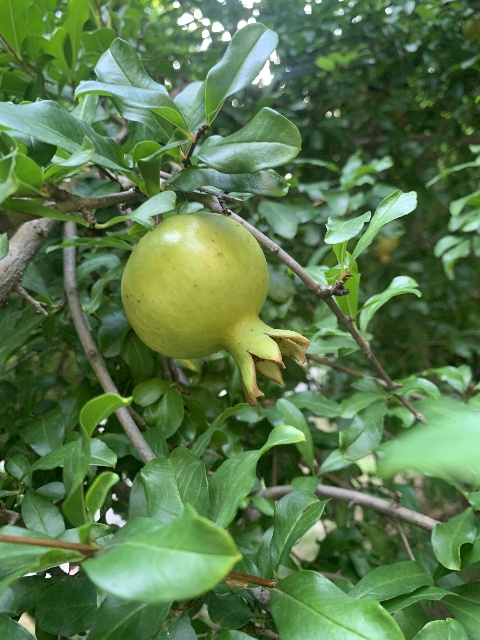mid-growth: (120, 211, 310, 406)
